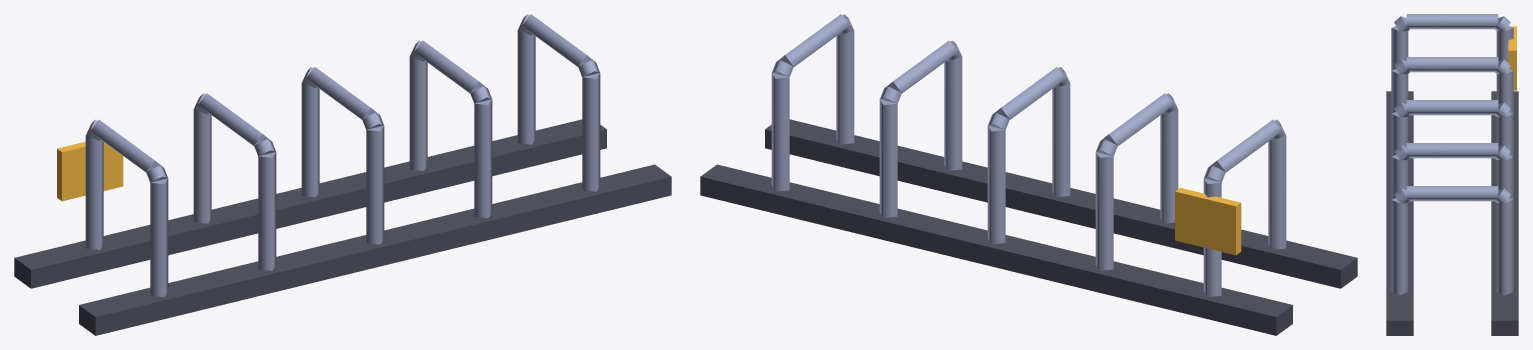
The model's file is rack-velos.glb.
3 views of the same model, side by side, from view 1: azimuth 30°, elevation 25°; view 2: azimuth 150°, elevation 25°; view 3: azimuth 270°, elevation 25° (orthographic). The views are drawn at different scales.
Parts seen in each view (by area): view 1: semelle-ar, semelle-av, plaque, montant-ar-1, montant-ar-4, montant-ar-0, montant-ar-2, montant-ar-3, montant-av-1, montant-av-4, montant-av-3, montant-av-0 (+6 smaller); view 2: semelle-av, semelle-ar, plaque, montant-av-1, montant-av-4, montant-av-2, montant-av-3, montant-ar-4, montant-ar-3, montant-ar-0, montant-ar-2, montant-ar-1 (+6 smaller); view 3: semelle-av, semelle-ar, montant-av-4, montant-ar-4, cintre-0, cintre-1, cintre-2, cintre-3, cintre-4, montant-ar-0, montant-av-1, montant-ar-1 (+16 smaller).
Part boxes in pixels (<box>): semelle-ar: <box>79,164,671,335</box>; semelle-av: <box>14,119,606,288</box>; plaque: <box>57,141,123,201</box>; montant-ar-1: <box>258,152,276,270</box>; montant-ar-4: <box>582,73,600,191</box>; montant-ar-0: <box>150,178,168,297</box>; montant-ar-2: <box>366,125,384,244</box>; montant-ar-3: <box>474,99,492,217</box>; montant-av-1: <box>193,109,211,223</box>; montant-av-4: <box>517,30,535,144</box>; montant-av-3: <box>409,56,427,170</box>; montant-av-0: <box>85,135,103,249</box>; semelle-av: <box>700,164,1292,335</box>; semelle-ar: <box>765,119,1357,288</box>; plaque: <box>1175,187,1241,255</box>; montant-av-1: <box>1095,152,1113,270</box>; montant-av-4: <box>771,73,789,191</box>; montant-av-2: <box>987,125,1005,244</box>; montant-av-3: <box>879,99,897,217</box>; montant-ar-4: <box>836,30,854,144</box>; montant-ar-3: <box>944,56,962,170</box>; montant-ar-0: <box>1268,135,1286,249</box>; montant-ar-2: <box>1052,83,1070,197</box>; montant-ar-1: <box>1160,109,1178,223</box>; semelle-av: <box>1491,91,1518,335</box>; semelle-ar: <box>1386,91,1413,335</box>; montant-av-4: <box>1496,198,1513,295</box>; montant-ar-4: <box>1391,198,1408,295</box>; cintre-0: <box>1406,14,1498,29</box>; cintre-1: <box>1406,57,1498,72</box>; cintre-2: <box>1406,100,1498,115</box>; cintre-3: <box>1406,143,1498,158</box>; cintre-4: <box>1406,186,1498,201</box>; montant-ar-0: <box>1391,26,1408,70</box>; montant-av-1: <box>1496,69,1513,113</box>; montant-ar-1: <box>1391,69,1408,113</box>.
Bounding box in the file's own units: 0.16 × 0.0395 × 0.039.
